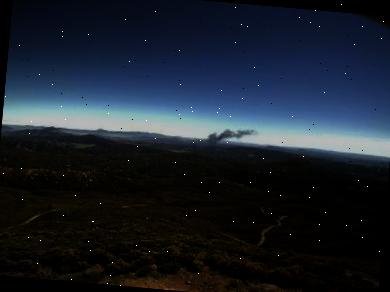smoke: (205, 124, 259, 152)
